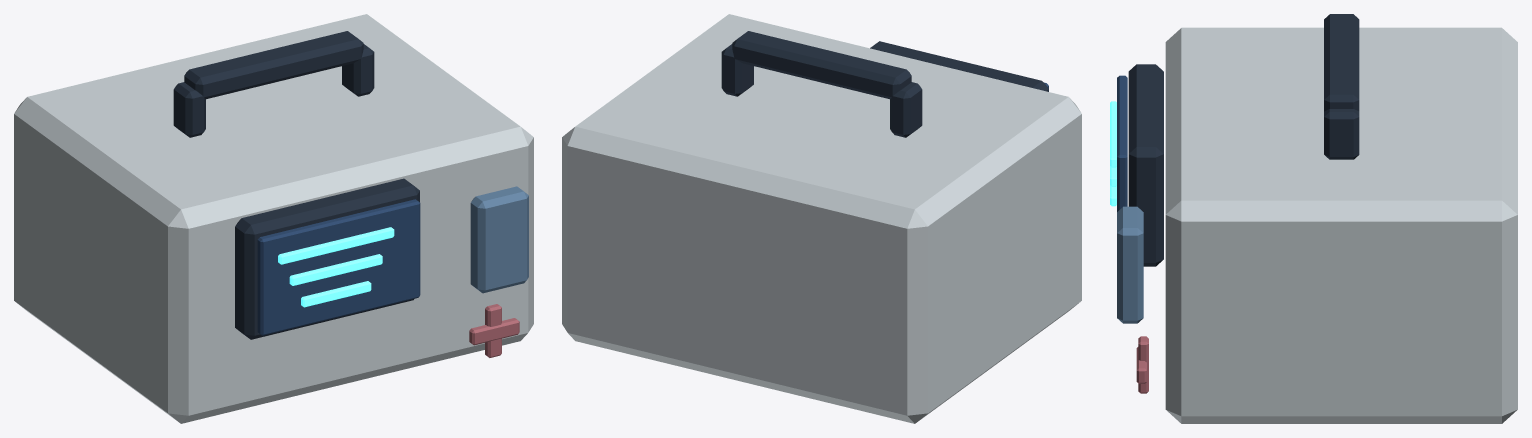
File: medical_09.glb
3 views of the same model, side by side, from view 1: azimuth 30°, elevation 25°; view 2: azimuth 150°, elevation 25°; view 3: azimuth 270°, elevation 25° (orthographic). The views are drawn at different scales.
Visible parts, largest first — view 1: DefibrillatorBody, Screen, MonitorFrame, CarryHandle, Paddle, DisplayLine (×3), HandleSupport (×2), MedicalCrossHorizontal, MedicalCrossVertical; view 2: DefibrillatorBody, CarryHandle, HandleSupport (×2), MonitorFrame; view 3: DefibrillatorBody, MonitorFrame, CarryHandle, Paddle, HandleSupport, Screen, DisplayLine, MedicalCrossVertical.
Part boxes in pixels (bbox=[...]): DefibrillatorBody: bbox=[14, 14, 533, 423]; Screen: bbox=[257, 199, 420, 335]; MonitorFrame: bbox=[235, 178, 419, 339]; CarryHandle: bbox=[184, 31, 363, 99]; Paddle: bbox=[470, 186, 528, 293]; DisplayLine (×3): bbox=[278, 227, 394, 307]; HandleSupport (×2): bbox=[173, 44, 374, 137]; MedicalCrossHorizontal: bbox=[469, 318, 519, 345]; MedicalCrossVertical: bbox=[485, 304, 501, 357]; DefibrillatorBody: bbox=[562, 14, 1081, 423]; CarryHandle: bbox=[732, 31, 911, 99]; HandleSupport (×2): bbox=[721, 44, 922, 137]; MonitorFrame: bbox=[870, 41, 1048, 91]; DefibrillatorBody: bbox=[1165, 27, 1517, 423]; MonitorFrame: bbox=[1128, 64, 1163, 266]; CarryHandle: bbox=[1324, 14, 1359, 111]; Paddle: bbox=[1117, 206, 1143, 323]; HandleSupport: bbox=[1324, 109, 1359, 159]; Screen: bbox=[1117, 75, 1127, 211]; DisplayLine: bbox=[1110, 101, 1116, 167]; MedicalCrossVertical: bbox=[1138, 336, 1148, 393].
Bounding box in the file's own units: 0.5 × 0.355 × 0.463.
